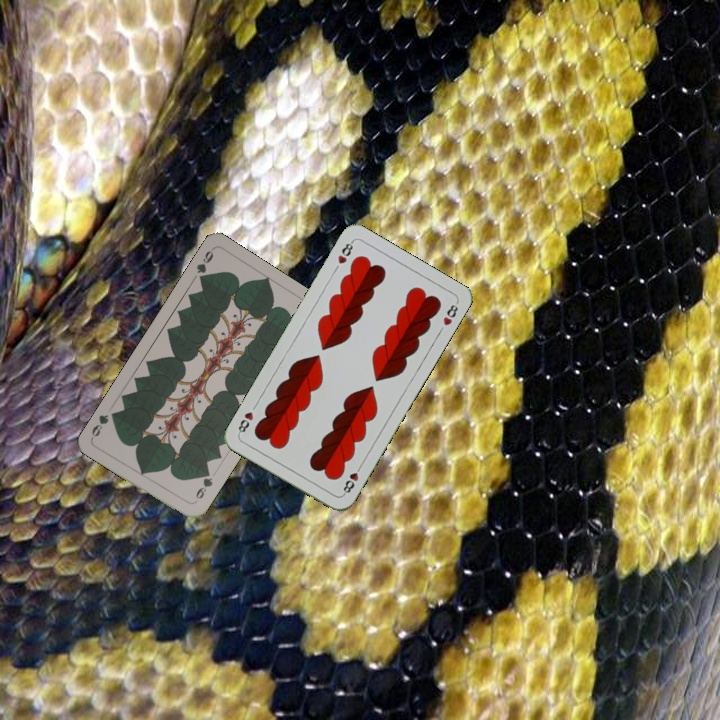G9: (190, 467, 215, 506), (192, 245, 216, 285)
H8: (339, 461, 365, 498), (333, 237, 356, 267)
